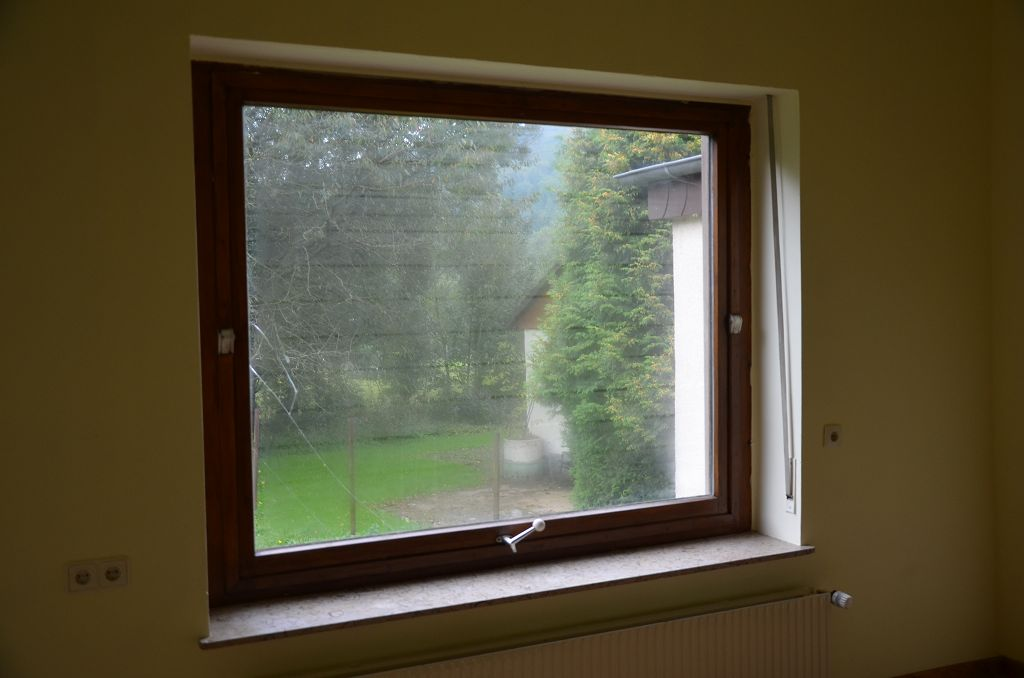windows: (191, 60, 794, 565)
